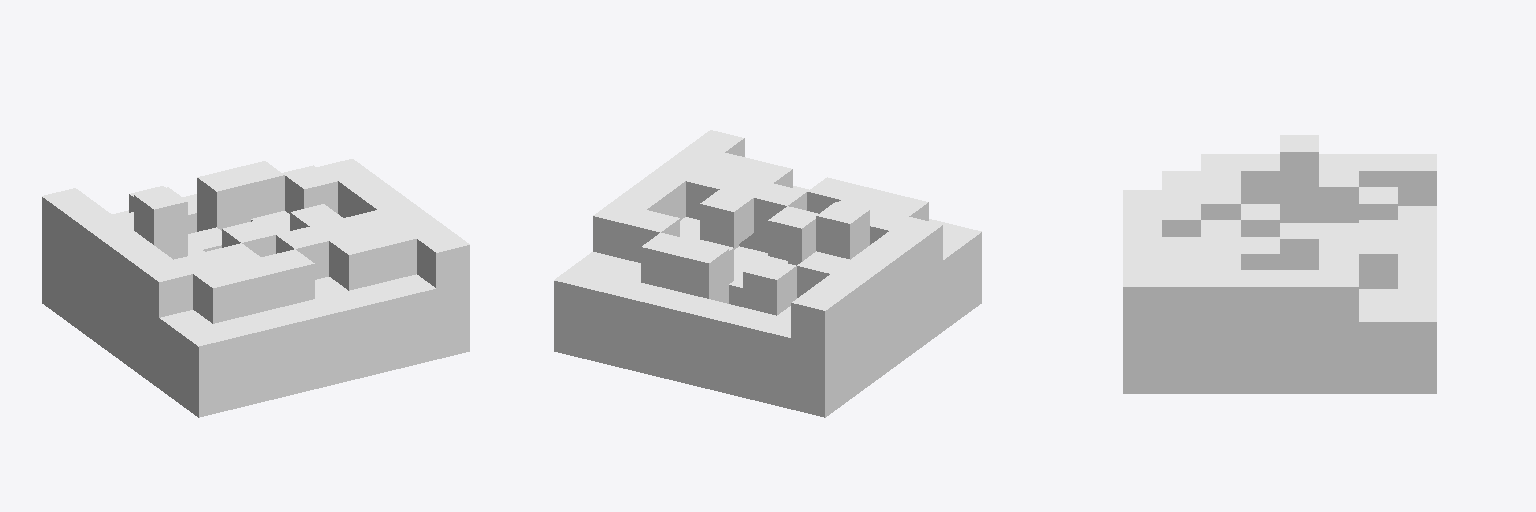
The model's file is Lava4.obj.
The picture shows the model from 3 angles: view 1: azimuth 30°, elevation 25°; view 2: azimuth 150°, elevation 25°; view 3: azimuth 270°, elevation 25°; orthographic projection.
Parts seen in each view (by area): view 1: object 1; view 2: object 1; view 3: object 1.
Part boxes in pixels (x1,y1,x2,y2): object 1: (42,159,469,417); object 1: (554,130,981,417); object 1: (1123,135,1436,393).
Bounding box in the file's own units: 0.8 × 0.4 × 0.8.